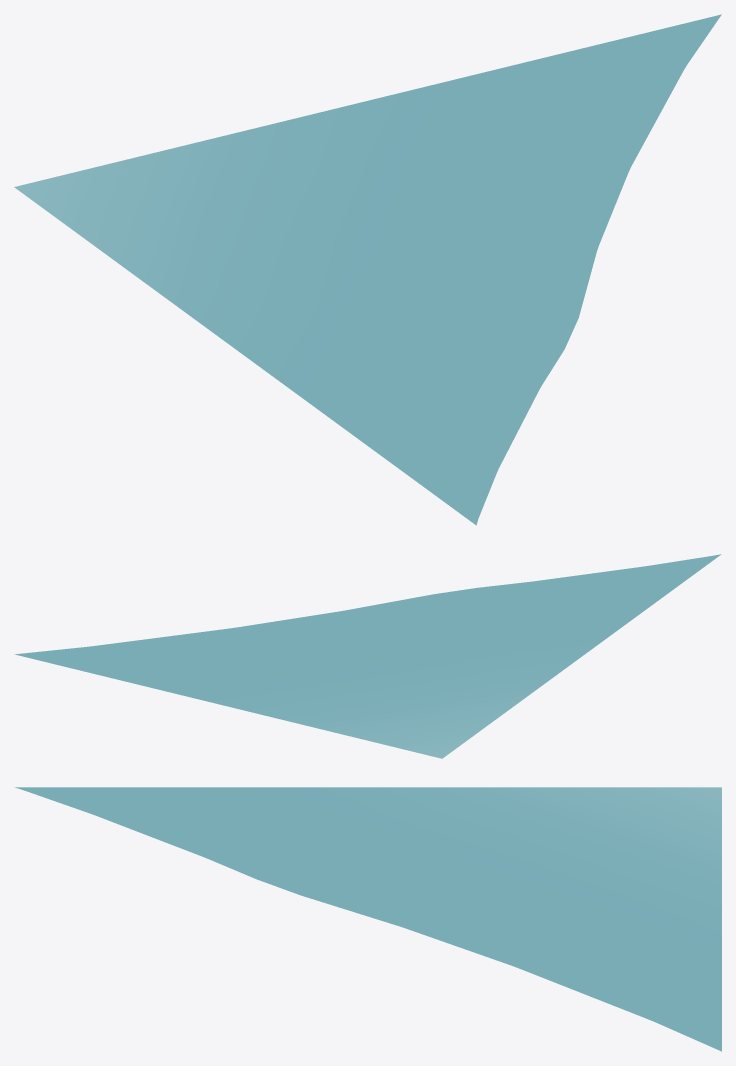
3 views of the same model, one above another, from view 1: azimuth 30°, elevation 25°; view 2: azimuth 150°, elevation 25°; view 3: azimuth 270°, elevation 25° (orthographic). The views are drawn at different scales.
Parts seen in each view (by area): view 1: city; view 2: city; view 3: city.
Part boxes in pixels (<box>): city: <box>14,14,721,525</box>; city: <box>14,554,721,758</box>; city: <box>15,787,721,1051</box>.
Size of the model in its own units: 188 by 0 by 213.
